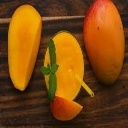mango: (82, 1, 125, 86)
